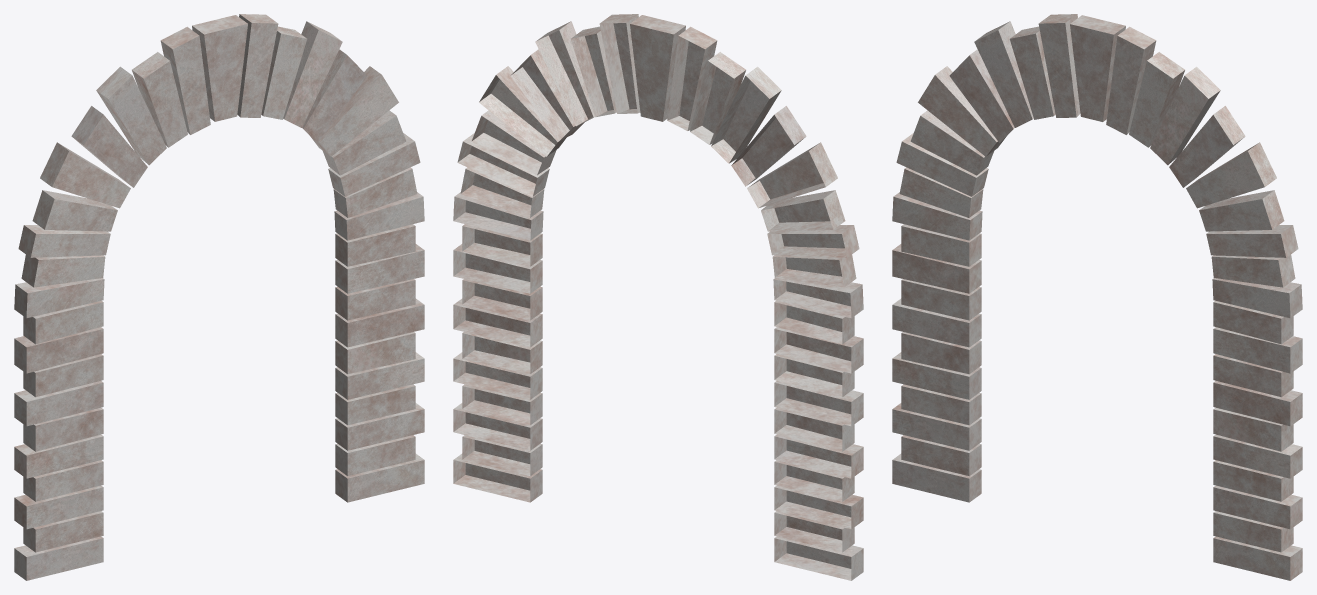
File: ArkesBigDoor.fbx
3 views of the same model, side by side, from view 1: azimuth 30°, elevation 25°; view 2: azimuth 150°, elevation 25°; view 3: azimuth 330°, elevation 25° (orthographic).
Parts seen in each view (by area): view 1: ArkesBigDoor; view 2: ArkesBigDoor; view 3: ArkesBigDoor.
Part boxes in pixels (bbox=[...]): ArkesBigDoor: bbox=[14, 14, 424, 580]; ArkesBigDoor: bbox=[453, 14, 863, 580]; ArkesBigDoor: bbox=[892, 14, 1302, 580].
Bounding box in the file's own units: 475 × 573 × 25.23.
Materials: 1 (1 with a texture image).
